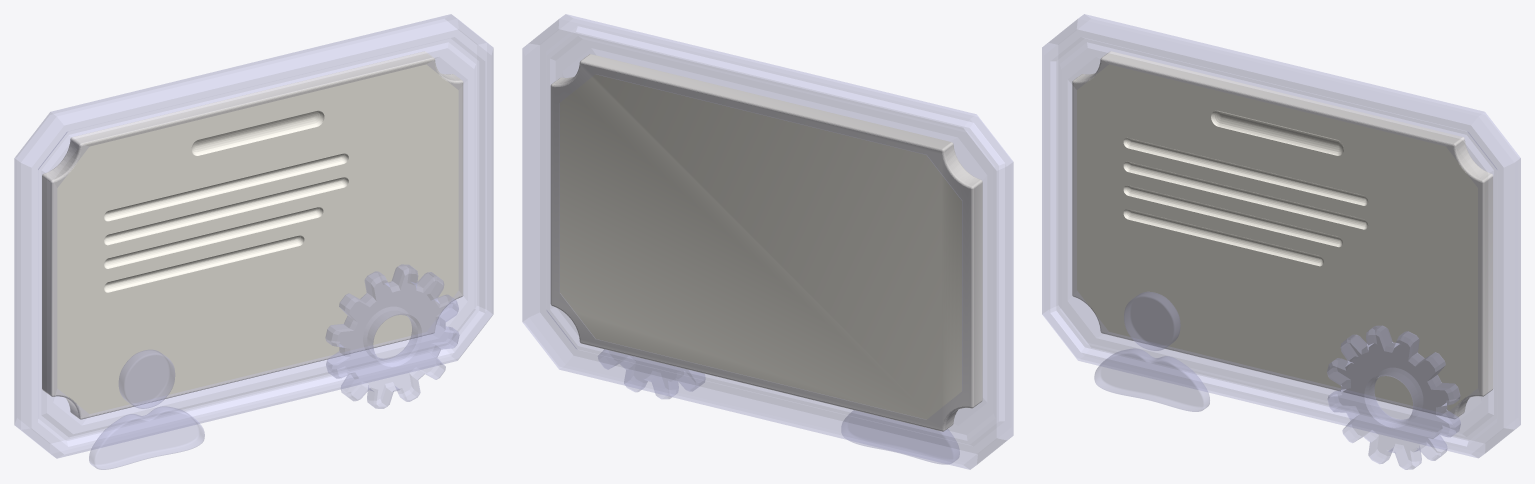
Rendered from cognito-user-pool-client.glb.
3 renders of one model, left to right at view 1: azimuth 30°, elevation 25°; view 2: azimuth 150°, elevation 25°; view 3: azimuth 330°, elevation 25°, orthographic. The views are drawn at different scales.
Parts seen in each view (by area): view 1: Engraved glass plaque, Stepped octagonal client frame, Twelve-tooth open gear, Person silhouette; view 2: Engraved glass plaque, Stepped octagonal client frame, Person silhouette, Twelve-tooth open gear; view 3: Engraved glass plaque, Stepped octagonal client frame, Twelve-tooth open gear, Person silhouette.
Boxes of the visible parts, box(x1,y1,x2,y2) form: Engraved glass plaque: box(42, 51, 463, 419); Stepped octagonal client frame: box(14, 14, 493, 458); Twelve-tooth open gear: box(325, 264, 459, 408); Person silhouette: box(89, 350, 204, 469); Engraved glass plaque: box(550, 54, 982, 431); Stepped octagonal client frame: box(522, 14, 1013, 469); Person silhouette: box(841, 410, 959, 464); Twelve-tooth open gear: box(598, 349, 705, 398); Engraved glass plaque: box(1072, 51, 1493, 418); Stepped octagonal client frame: box(1042, 14, 1520, 457); Twelve-tooth open gear: box(1327, 325, 1460, 469); Person silhouette: box(1094, 292, 1209, 411).
Bounding box in the file's own units: 4.48 × 3.26 × 0.405.
